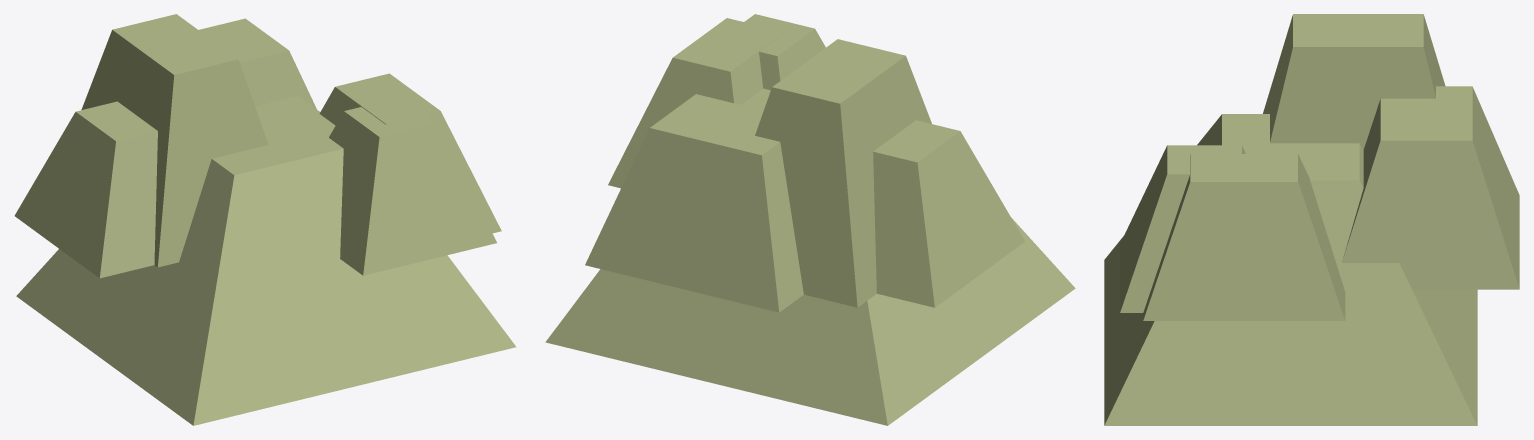
The model's file is andean-terraces-and-stone-village-low-shrub-c5d73528__38234.glb.
The picture shows the model from 3 angles, left to right: view 1: azimuth 30°, elevation 25°; view 2: azimuth 150°, elevation 25°; view 3: azimuth 270°, elevation 25°; orthographic projection. The views are drawn at different scales.
Parts seen in each view (by area): view 1: low-shrub-grass; view 2: low-shrub-grass; view 3: low-shrub-grass.
Part boxes in pixels (x1,y1,x2,y2): low-shrub-grass: (14, 14, 516, 425); low-shrub-grass: (545, 14, 1075, 425); low-shrub-grass: (1104, 14, 1519, 425).
Bounding box in the file's own units: 1.08 × 0.815 × 1.06.
